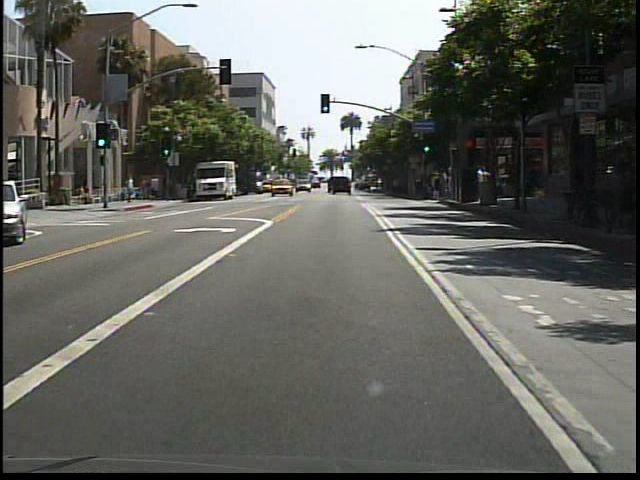person: (125, 173, 138, 206), (149, 173, 163, 202), (79, 183, 95, 204), (140, 177, 152, 201)
